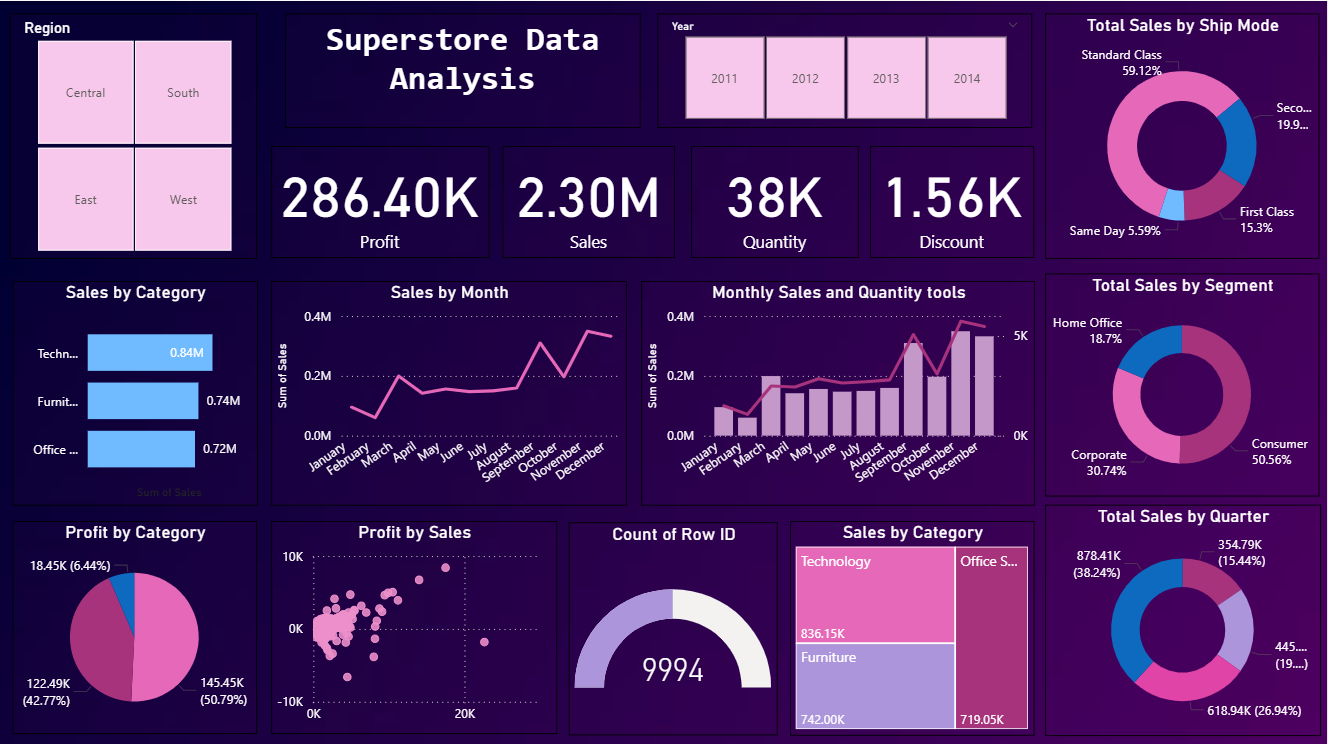

This screenshot's page, from the dashboard's own definition file:
{"tool":"powerbi","page":{"name":"Page 1","canvas":[1280,720],"ordinal":0},"visuals":[{"type":"donutChart","title":"Total Sales by Ship Mode","fields":{"Category":["Superstore.Ship Mode"],"Y":["Sum(Superstore.Sales)"]},"box":[1008,12,265,237],"z":0},{"type":"donutChart","title":"Total Sales by Segment","fields":{"Category":["Superstore.Segment"],"Y":["Sum(Superstore.Sales)"]},"box":[1009,263,265,215],"z":1000},{"type":"donutChart","title":"Total Sales by Quarter","fields":{"Category":["Superstore.Order Date.Variation.Date Hierarchy.Quarter"],"Y":["Sum(Superstore.Sales)"]},"box":[1008,486,266,223],"z":2000},{"type":"barChart","title":"Sales by Category","fields":{"Category":["Superstore.Category"],"Y":["Sum(Superstore.Sales)"]},"box":[11.7,270,236.7,216.7],"z":3000},{"type":"lineChart","title":"Sales by Month","fields":{"Y":["Sum(Superstore.Sales)"],"Category":["Superstore.Order Date.Variation.Date Hierarchy.Month"]},"box":[261.7,270,343.3,216.7],"z":4000},{"type":"lineStackedColumnComboChart","title":"Monthly Sales and Quantity tools","fields":{"Y":["Sum(Superstore.Sales)"],"Category":["Superstore.Order Date.Variation.Date Hierarchy.Month"],"Y2":["Sum(Superstore.Quantity)"]},"box":[618.3,270,380,216.7],"z":5000},{"type":"pieChart","fields":{"Category":["Superstore.Category"],"Y":["Sum(Superstore.Profit)"]},"box":[12.3,502.2,236,205.8],"z":6000},{"type":"scatterChart","fields":{"X":["Superstore.Sales"],"Y":["Sum(Superstore.Profit)"]},"box":[262.1,502.2,275.8,205.8],"z":7000},{"type":"treemap","fields":{"Values":["Sum(Superstore.Sales)"],"Group":["Superstore.Category"]},"box":[763,502.2,236,207.2],"z":8000},{"type":"slicer","fields":{"Values":["Superstore.Region"]},"box":[10,11.7,238.3,236.7],"z":9000},{"type":"slicer","fields":{"Values":["Superstore.Order Date.Variation.Date Hierarchy.Year"]},"box":[635,11.7,361.7,110],"z":10000},{"type":"card","fields":{"Values":["Sum(Superstore.Profit)"]},"box":[261.7,140,210,108.3],"z":11000},{"type":"card","fields":{"Values":["Sum(Superstore.Sales)"]},"box":[485,140,166.7,108.3],"z":12000},{"type":"card","fields":{"Values":["Sum(Superstore.Quantity)"]},"box":[666.7,140,161.7,108.3],"z":13000},{"type":"card","fields":{"Values":["Sum(Superstore.Discount)"]},"box":[840,140,158.3,108.3],"z":14000},{"type":"textbox","box":[275,11.7,343.3,110],"z":15000},{"type":"gauge","fields":{"Y":["CountNonNull(Superstore.Row ID)"]},"box":[548.9,503.6,201.7,205.8],"z":16000}]}

Visuals, with their boxes in screenshot pixels (x1, y1, x2, y2), scaled from the page's 1280x720 canvas onto the 1328x744 screenshot:
"Total Sales by Ship Mode" donutChart: 1046, 12, 1321, 257
"Total Sales by Segment" donutChart: 1047, 272, 1322, 494
"Total Sales by Quarter" donutChart: 1046, 502, 1322, 733
"Sales by Category" barChart: 12, 279, 258, 503
"Sales by Month" lineChart: 272, 279, 628, 503
"Monthly Sales and Quantity tools" lineStackedColumnComboChart: 641, 279, 1036, 503
pieChart - Superstore.Category x Sum(Superstore.Profit): 13, 519, 258, 732
scatterChart - Superstore.Sales x Sum(Superstore.Profit): 272, 519, 558, 732
treemap - Sum(Superstore.Sales) x Superstore.Category: 792, 519, 1036, 733
slicer - Superstore.Region: 10, 12, 258, 257
slicer - Superstore.Order Date.Variation.Date Hierarchy.Year: 659, 12, 1034, 126
card - Sum(Superstore.Profit): 272, 145, 489, 257
card - Sum(Superstore.Sales): 503, 145, 676, 257
card - Sum(Superstore.Quantity): 692, 145, 859, 257
card - Sum(Superstore.Discount): 872, 145, 1036, 257
textbox: 285, 12, 641, 126
gauge - CountNonNull(Superstore.Row ID): 569, 520, 779, 733
